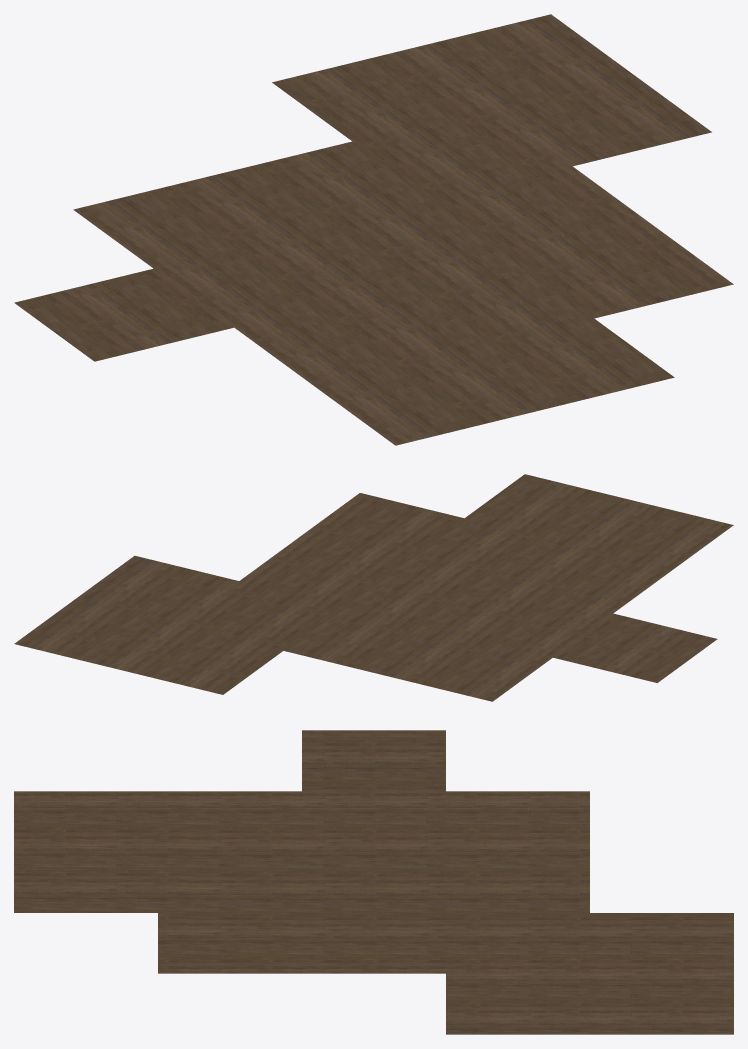
Rendered from Homeworld_Interior_Dq_Room_K_Floor_01_Vo.fbx.
3 views of the same model, one above another, from view 1: azimuth 30°, elevation 25°; view 2: azimuth 150°, elevation 25°; view 3: azimuth 270°, elevation 25° (orthographic). The views are drawn at different scales.
Parts seen in each view (by area): view 1: Homeworld_Interior_Dq_Room_K_Floor_01_Vo; view 2: Homeworld_Interior_Dq_Room_K_Floor_01_Vo; view 3: Homeworld_Interior_Dq_Room_K_Floor_01_Vo.
Boxes of the visible parts, x1,y1,x2,y2 form: Homeworld_Interior_Dq_Room_K_Floor_01_Vo: (14,14,733,445); Homeworld_Interior_Dq_Room_K_Floor_01_Vo: (14,474,733,701); Homeworld_Interior_Dq_Room_K_Floor_01_Vo: (14,730,733,1034).
Size of the model in its own units: 25 by 0 by 25.
